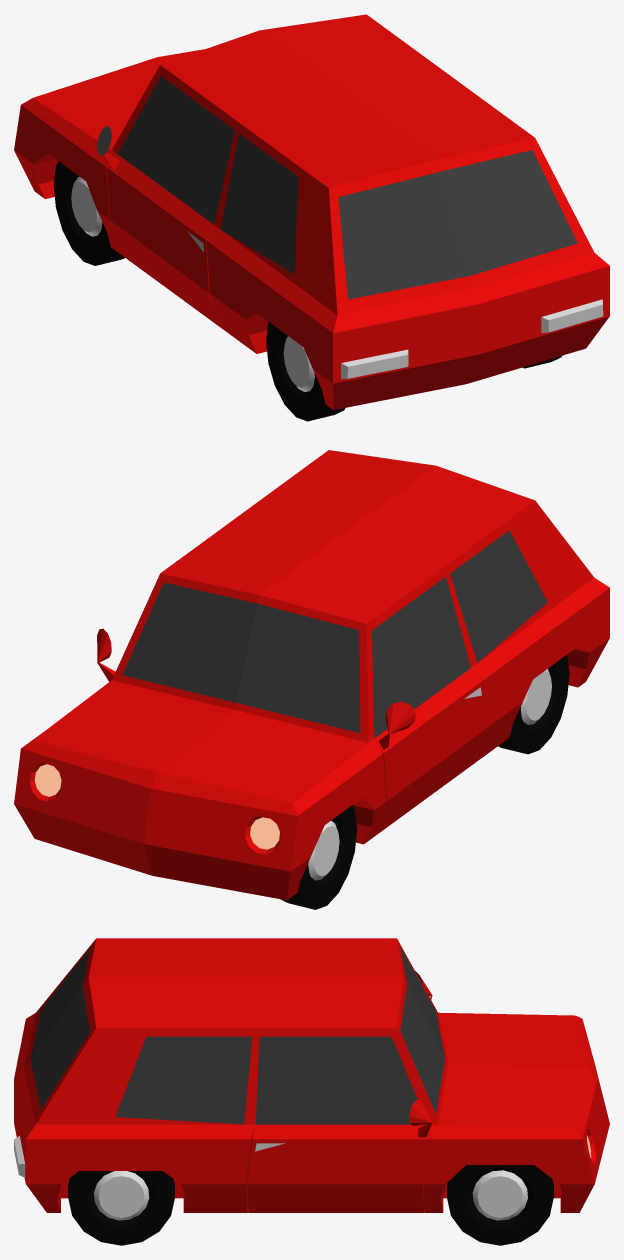
Rendered from Car_Basic_9.glb.
3 views of the same model, one above another, from view 1: azimuth 30°, elevation 25°; view 2: azimuth 150°, elevation 25°; view 3: azimuth 270°, elevation 25° (orthographic). The views are drawn at different scales.
Parts seen in each view (by area): view 1: Car_Hatch_C_Body.001, Car_Hatch_C_DoorL.001, Car_Hatch_C_wheelFL.001, Car_Hatch_C_wheelRL.001; view 2: Car_Hatch_C_Body.001, Car_Hatch_C_DoorL.001, Car_Hatch_C_wheelFL.001, Car_Hatch_C_wheelRL.001; view 3: Car_Hatch_C_Body.001, Car_Hatch_C_DoorR.001, Car_Hatch_C_wheelFR.001, Car_Hatch_C_wheelRR.001.
Boxes of the visible parts, box(x1,y1,x2,y2) form: Car_Hatch_C_Body.001: box(14, 14, 609, 409); Car_Hatch_C_DoorL.001: box(97, 76, 234, 327); Car_Hatch_C_wheelFL.001: box(53, 161, 124, 265); Car_Hatch_C_wheelRL.001: box(266, 322, 345, 421); Car_Hatch_C_Body.001: box(14, 450, 609, 900); Car_Hatch_C_DoorL.001: box(372, 577, 485, 836); Car_Hatch_C_wheelFL.001: box(281, 805, 357, 909); Car_Hatch_C_wheelRL.001: box(498, 655, 569, 754); Car_Hatch_C_Body.001: box(14, 938, 609, 1212); Car_Hatch_C_DoorR.001: box(246, 1036, 432, 1212); Car_Hatch_C_wheelFR.001: box(447, 1165, 553, 1245); Car_Hatch_C_wheelRR.001: box(68, 1171, 174, 1245).
Bounding box in the file's own units: 1.83 × 1.32 × 3.32.
